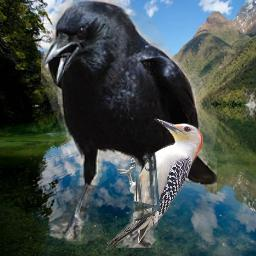Crow: (41, 0, 217, 248)
Woodpecker: (105, 116, 206, 251)
